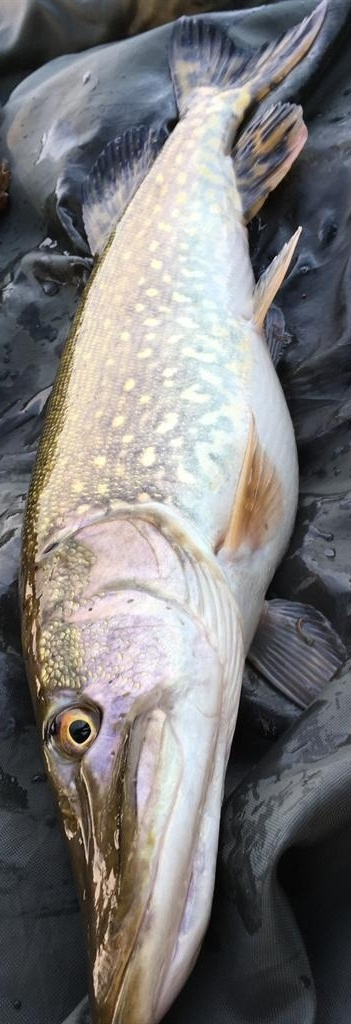Esox lucius: (20, 1, 331, 1024)
